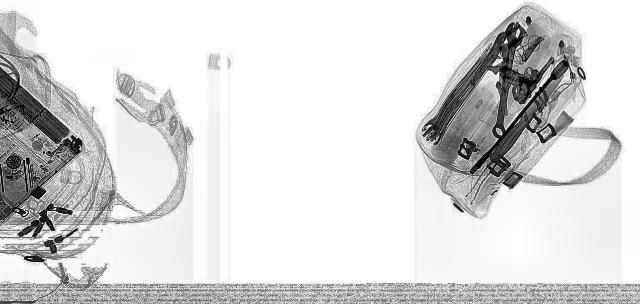Gun: (480, 50, 558, 103)
Wrench: (462, 60, 576, 174), (488, 21, 526, 139)
